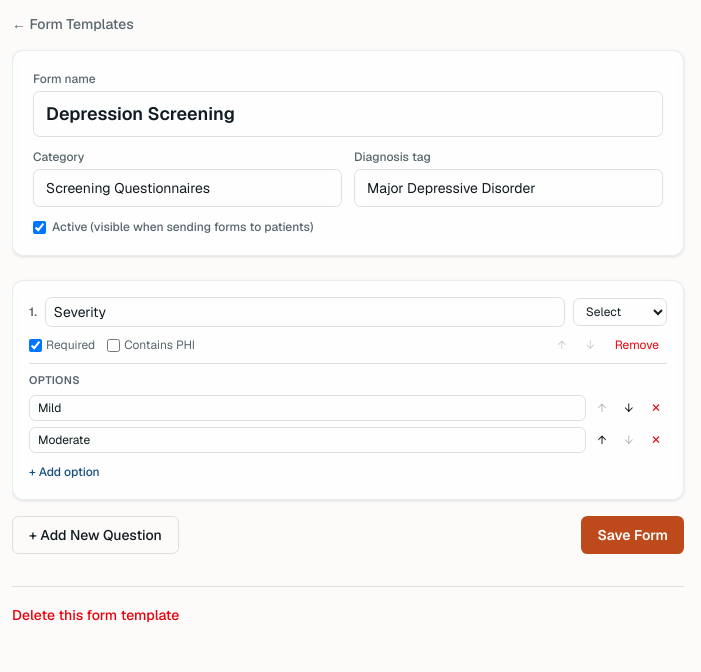
FormBuilderEditor › shows an options editor with add/remove for a select question
Check: the text "Options" is shown, box left=29, top=373, right=80, bottom=387
Check: the field named "Option 1 for Severity" holds "Mild", box left=29, top=394, right=586, bottom=420
Step 1. Click the button "+ Add option" → click(64, 472), box left=29, top=464, right=100, bottom=480
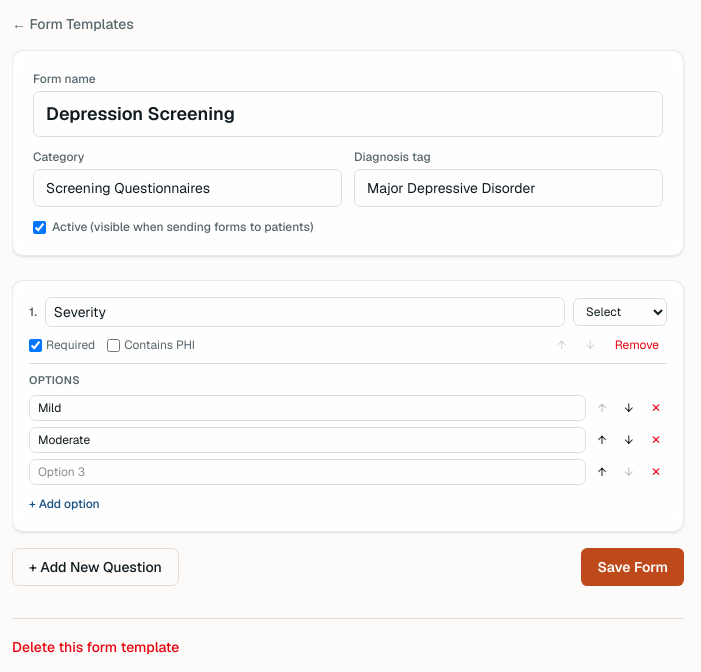
Check: the field named "Option 3 for Severity" is empty
Step 2. Type "Severe" into the field named "Option 3 for Severity" → (307, 472), box left=29, top=458, right=586, bottom=484
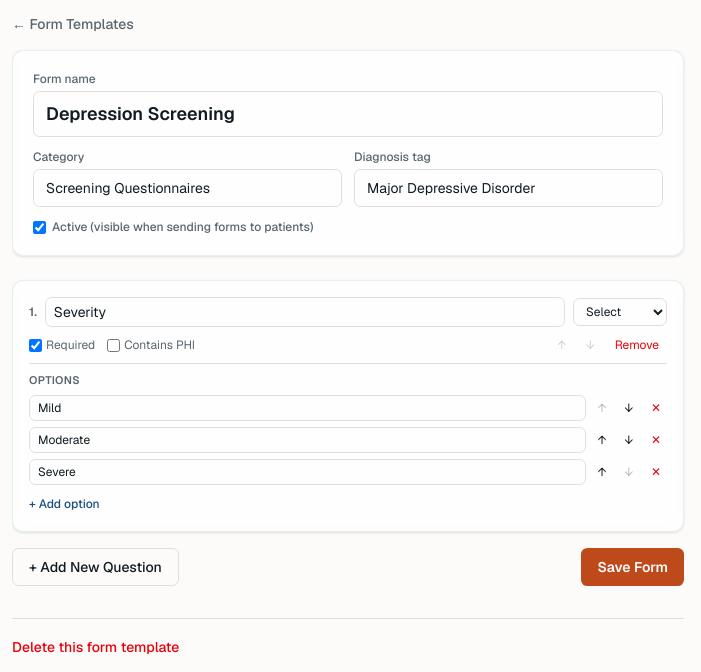
Step 3. Click the button named "Remove option" → click(656, 408), box left=645, top=398, right=667, bottom=418
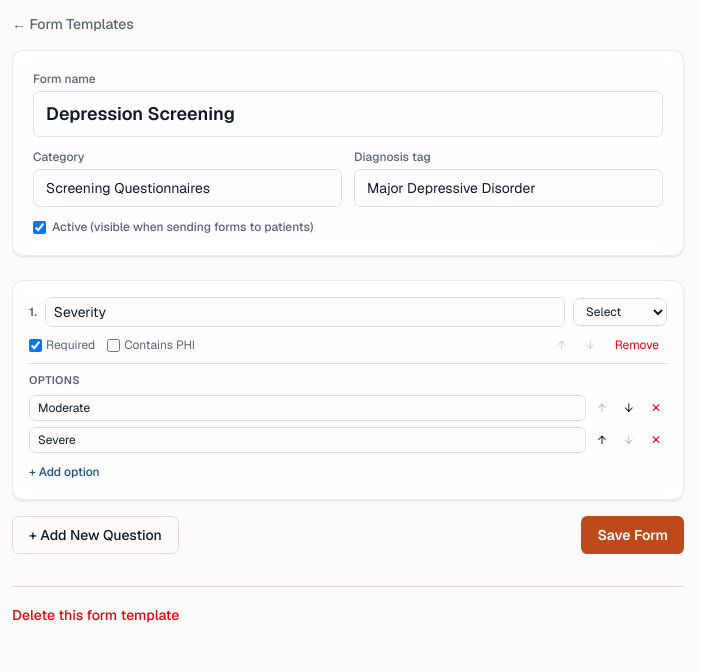
Check: the field showing "Mild" is not shown
Check: the field named "Option 1 for Severity" holds "Moderate", box left=29, top=394, right=586, bottom=420
